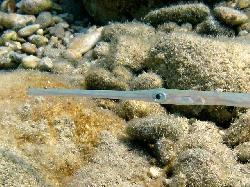Fistularia commersonii: (28, 71, 250, 148)
